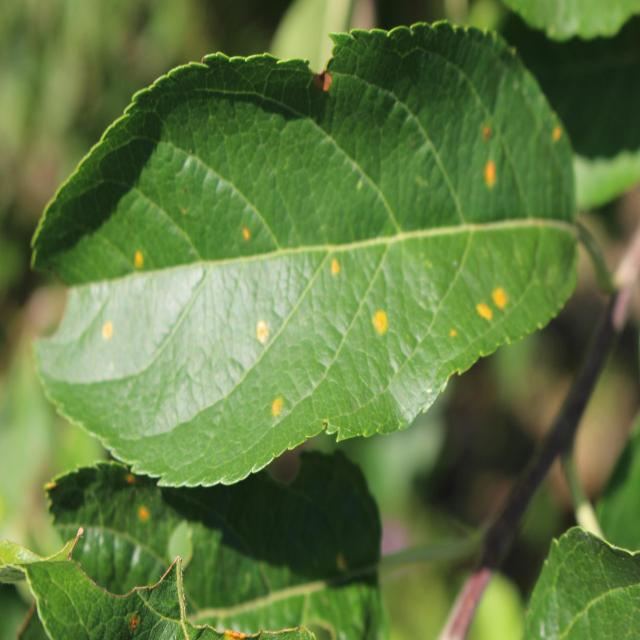Black Rot: (307, 50, 342, 110)
Rust: (123, 222, 152, 290), (358, 296, 391, 349), (95, 310, 128, 359), (484, 278, 519, 314), (477, 152, 502, 194), (267, 385, 290, 424), (474, 296, 494, 340), (244, 312, 273, 342), (545, 116, 569, 150), (326, 246, 342, 285), (230, 225, 260, 245), (436, 319, 458, 344), (476, 122, 501, 139)
